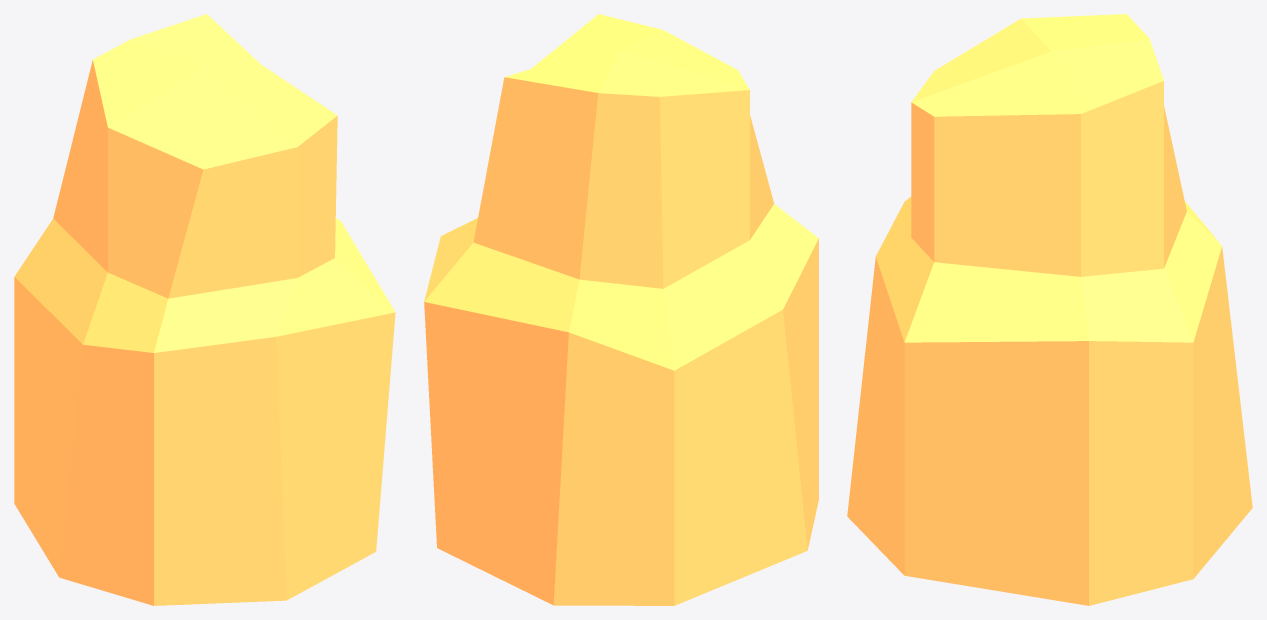
Rendered from rock06.fbx.
3 renders of one model, left to right at view 1: azimuth 30°, elevation 25°; view 2: azimuth 150°, elevation 25°; view 3: azimuth 270°, elevation 25°, orthographic. The views are drawn at different scales.
Parts seen in each view (by area): view 1: rock02_main, rock02_lights; view 2: rock02_main, rock02_lights; view 3: rock02_main, rock02_lights.
Boxes of the visible parts, x1,y1,x2,y2 form: rock02_main: [14, 60, 395, 605]; rock02_lights: [14, 14, 394, 352]; rock02_main: [424, 77, 818, 605]; rock02_lights: [424, 14, 818, 370]; rock02_main: [847, 81, 1252, 605]; rock02_lights: [876, 14, 1221, 342].
Size of the model in its own units: 3.62 by 4.88 by 3.79.
